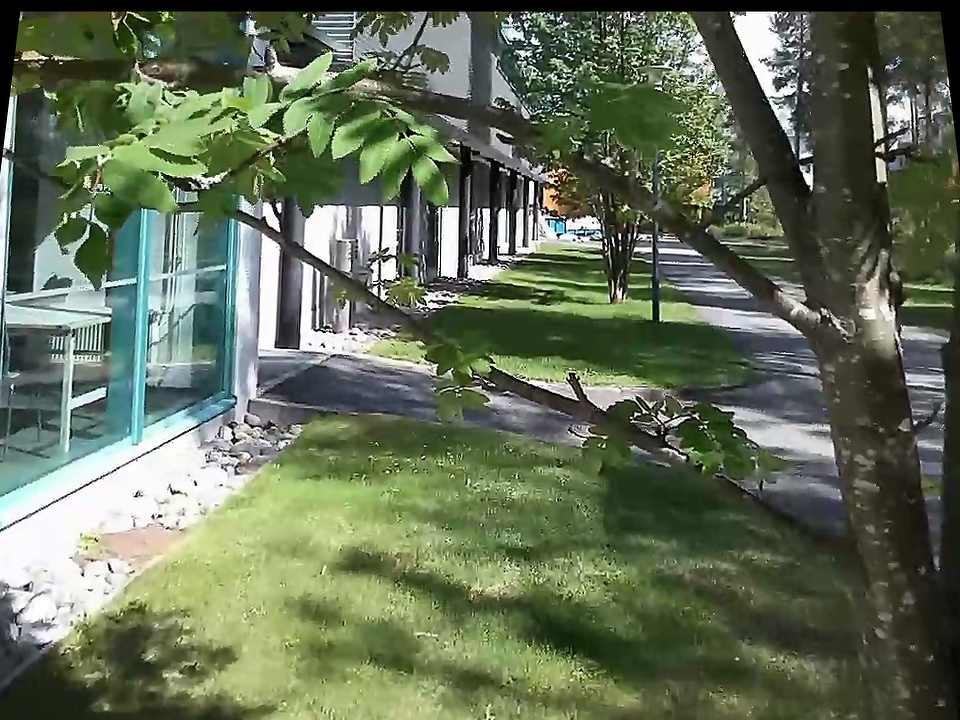branch: (682, 428, 836, 583), (472, 348, 642, 461), (367, 278, 517, 403), (612, 395, 746, 531), (280, 226, 408, 343), (717, 454, 829, 576)
trunk: (795, 15, 930, 440), (850, 334, 952, 712), (841, 203, 921, 586)
